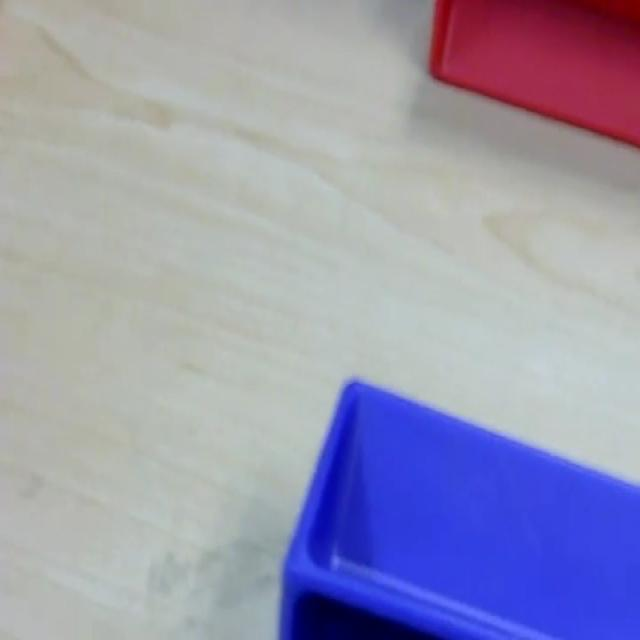blue_block: (277, 373, 638, 638)
red_block: (428, 0, 638, 148)
